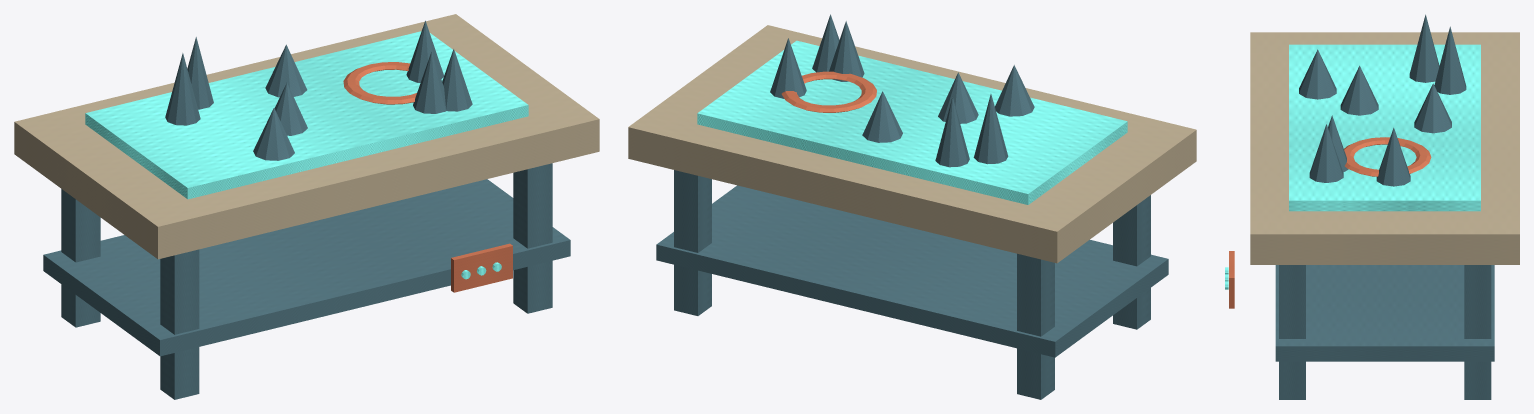
Rendered from atlas100-s043-a01.glb.
The picture shows the model from 3 angles, left to right: view 1: azimuth 30°, elevation 25°; view 2: azimuth 150°, elevation 25°; view 3: azimuth 270°, elevation 25°; orthographic projection. The views are drawn at different scales.
Parts seen in each view (by area): view 1: atlas100-s043-a01:part-004, atlas100-s043-a01:part-005, atlas100-s043-a01:part-006, atlas100-s043-a01:part-001, atlas100-s043-a01:part-003, atlas100-s043-a01:part-000, atlas100-s043-a01:part-016, atlas100-s043-a01:part-012, atlas100-s043-a01:part-015, atlas100-s043-a01:part-007, atlas100-s043-a01:part-014, atlas100-s043-a01:part-013 (+4 smaller); view 2: atlas100-s043-a01:part-004, atlas100-s043-a01:part-005, atlas100-s043-a01:part-006, atlas100-s043-a01:part-002, atlas100-s043-a01:part-000, atlas100-s043-a01:part-001, atlas100-s043-a01:part-015, atlas100-s043-a01:part-012, atlas100-s043-a01:part-009, atlas100-s043-a01:part-013, atlas100-s043-a01:part-007, atlas100-s043-a01:part-008 (+3 smaller); view 3: atlas100-s043-a01:part-004, atlas100-s043-a01:part-006, atlas100-s043-a01:part-005, atlas100-s043-a01:part-002, atlas100-s043-a01:part-003, atlas100-s043-a01:part-015, atlas100-s043-a01:part-009, atlas100-s043-a01:part-012, atlas100-s043-a01:part-011, atlas100-s043-a01:part-008, atlas100-s043-a01:part-010, atlas100-s043-a01:part-013 (+3 smaller).
Boxes of the visible parts, x1,y1,x2,y2 form: atlas100-s043-a01:part-004: [14, 14, 599, 259]; atlas100-s043-a01:part-005: [43, 179, 570, 356]; atlas100-s043-a01:part-006: [85, 31, 528, 199]; atlas100-s043-a01:part-001: [160, 249, 199, 399]; atlas100-s043-a01:part-003: [513, 163, 552, 313]; atlas100-s043-a01:part-000: [61, 189, 100, 327]; atlas100-s043-a01:part-016: [451, 243, 512, 292]; atlas100-s043-a01:part-012: [165, 53, 200, 125]; atlas100-s043-a01:part-015: [343, 62, 416, 104]; atlas100-s043-a01:part-007: [253, 108, 294, 160]; atlas100-s043-a01:part-014: [413, 51, 446, 113]; atlas100-s043-a01:part-013: [265, 44, 307, 97]; atlas100-s043-a01:part-004: [628, 25, 1196, 263]; atlas100-s043-a01:part-005: [656, 185, 1168, 357]; atlas100-s043-a01:part-006: [697, 40, 1127, 204]; atlas100-s043-a01:part-002: [674, 170, 711, 315]; atlas100-s043-a01:part-000: [1017, 253, 1054, 399]; atlas100-s043-a01:part-001: [1113, 195, 1150, 329]; atlas100-s043-a01:part-015: [781, 71, 876, 112]; atlas100-s043-a01:part-012: [973, 94, 1008, 164]; atlas100-s043-a01:part-009: [935, 96, 969, 167]; atlas100-s043-a01:part-013: [862, 91, 902, 142]; atlas100-s043-a01:part-007: [995, 65, 1034, 116]; atlas100-s043-a01:part-008: [770, 38, 806, 98]; atlas100-s043-a01:part-004: [1250, 32, 1519, 264]; atlas100-s043-a01:part-006: [1289, 44, 1480, 211]; atlas100-s043-a01:part-005: [1275, 265, 1494, 361]; atlas100-s043-a01:part-002: [1464, 265, 1491, 399]; atlas100-s043-a01:part-003: [1279, 265, 1305, 399]; atlas100-s043-a01:part-015: [1344, 137, 1431, 176]; atlas100-s043-a01:part-009: [1434, 26, 1466, 94]; atlas100-s043-a01:part-012: [1409, 14, 1439, 82]; atlas100-s043-a01:part-011: [1309, 124, 1343, 182]; atlas100-s043-a01:part-008: [1376, 127, 1410, 186]; atlas100-s043-a01:part-010: [1340, 65, 1378, 115]; atlas100-s043-a01:part-013: [1414, 83, 1451, 133].
Bounding box in the file's own units: 2.84 × 1.65 × 1.75.
Materials: 4 (4 with a texture image).
